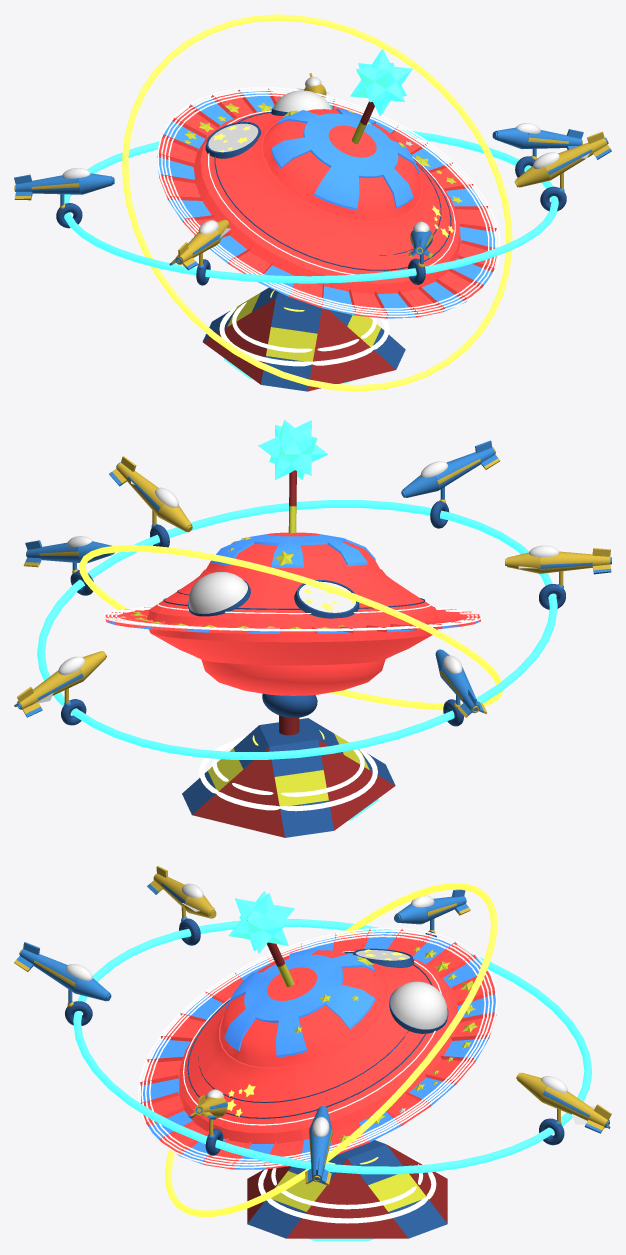
File: asset.glb
3 renders of one model, top to bottom at view 1: azimuth 30°, elevation 25°; view 2: azimuth 150°, elevation 25°; view 3: azimuth 270°, elevation 25°, orthographic. The views are drawn at different scales.
Visible parts, largest first — view 1: Sphere.016, Cube, Torus.014, Torus.005, Torus.001, Solid.001, Sphere.003, Cylinder.002, Cylinder.013, Torus.007, Sphere.002, Cylinder.005 (+7 smaller); view 2: Sphere.016, Cube, Torus.001, Torus.014, Solid.001, Sphere.002, Torus.005, Sphere.003, Torus.007, Cylinder.009, Cylinder.010, Cylinder.007 (+6 smaller); view 3: Sphere.016, Cube, Torus.001, Torus.005, Torus.014, Sphere.002, Solid.001, Cylinder.010, Torus.007, Cylinder.007, Cylinder.005, Torus.006 (+8 smaller).
Boxes of the visible parts, x1,y1,x2,y2 form: Sphere.016: [157, 88, 496, 318]; Cube: [202, 287, 405, 391]; Torus.014: [122, 14, 512, 391]; Torus.005: [157, 87, 500, 317]; Torus.001: [64, 129, 558, 283]; Solid.001: [350, 49, 412, 115]; Sphere.003: [205, 121, 260, 158]; Cylinder.002: [14, 174, 81, 200]; Cylinder.013: [545, 131, 611, 179]; Torus.007: [219, 305, 389, 366]; Sphere.002: [271, 90, 331, 115]; Cylinder.005: [522, 129, 583, 149]; Sphere.016: [105, 532, 480, 695]; Cube: [182, 718, 395, 837]; Torus.001: [37, 500, 557, 759]; Torus.014: [79, 545, 502, 710]; Solid.001: [258, 420, 327, 479]; Sphere.002: [187, 572, 250, 616]; Torus.005: [103, 606, 482, 631]; Sphere.003: [294, 579, 359, 618]; Torus.007: [199, 743, 377, 811]; Cylinder.009: [540, 548, 611, 574]; Cylinder.010: [14, 669, 83, 717]; Cylinder.007: [435, 440, 500, 490]; Sphere.016: [140, 928, 496, 1169]; Cube: [247, 1140, 447, 1238]; Torus.001: [73, 919, 592, 1174]; Torus.005: [137, 927, 497, 1168]; Torus.014: [165, 883, 497, 1216]; Sphere.002: [389, 981, 448, 1033]; Solid.001: [229, 891, 294, 953]; Cylinder.010: [541, 1086, 611, 1133]; Torus.007: [258, 1155, 436, 1223]; Cylinder.007: [14, 942, 78, 992]; Cylinder.005: [305, 1125, 332, 1185]; Torus.006: [271, 1151, 423, 1209].
Size of the model in its own units: 6.96 by 4.2 by 6.82.
